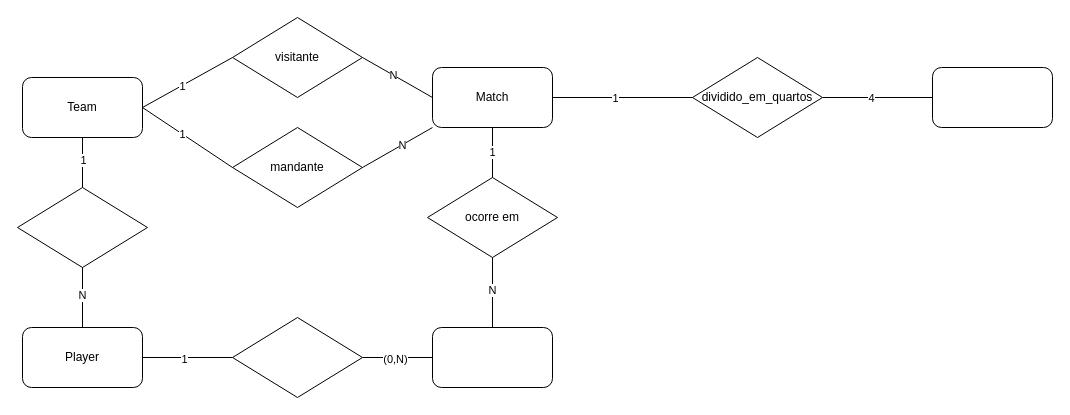
The diagram is 1070 pixels wide and 415 high, and some of its shapes have lost their labels. Each missing label, with the centre of its shape:
corresponde a: the point at 297,357
pertence a: the point at 82,227
StatsPlayer: the point at 492,357
StatsQuarter: the point at 992,97
